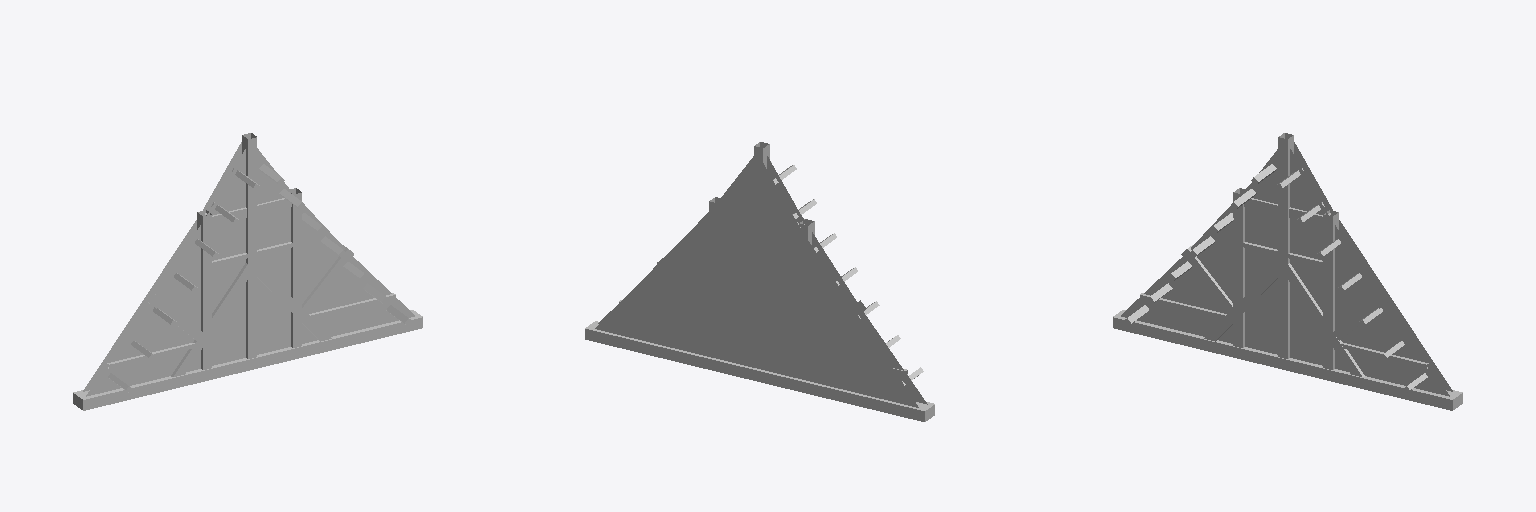
The model's file is Roof_Front_Wood8.obj.
3 views of the same model, side by side, from view 1: azimuth 30°, elevation 25°; view 2: azimuth 150°, elevation 25°; view 3: azimuth 330°, elevation 25° (orthographic).
Visible parts, largest first — view 1: Roof_Front_Wood8; view 2: Roof_Front_Wood8; view 3: Roof_Front_Wood8.
Boxes of the visible parts, <box> form: Roof_Front_Wood8: <box>73,133,422,410</box>; Roof_Front_Wood8: <box>585,142,934,421</box>; Roof_Front_Wood8: <box>1113,133,1462,410</box>.
Bounding box in the file's own units: 8.51 × 5.53 × 1.13.